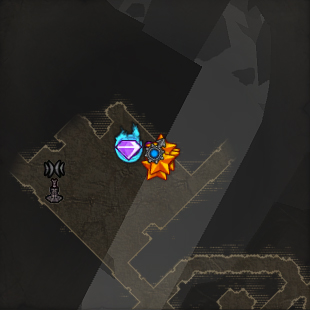Urushi: (115, 123, 143, 165)
